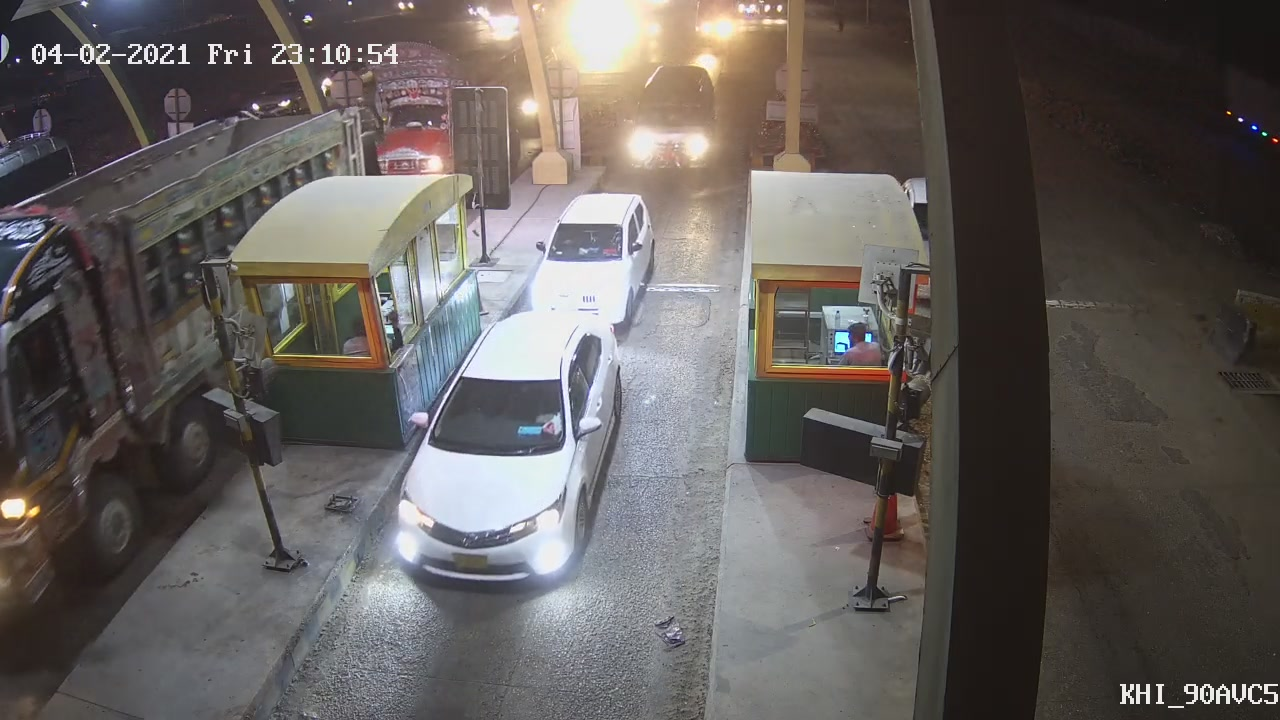F1: (383, 309, 628, 590)
